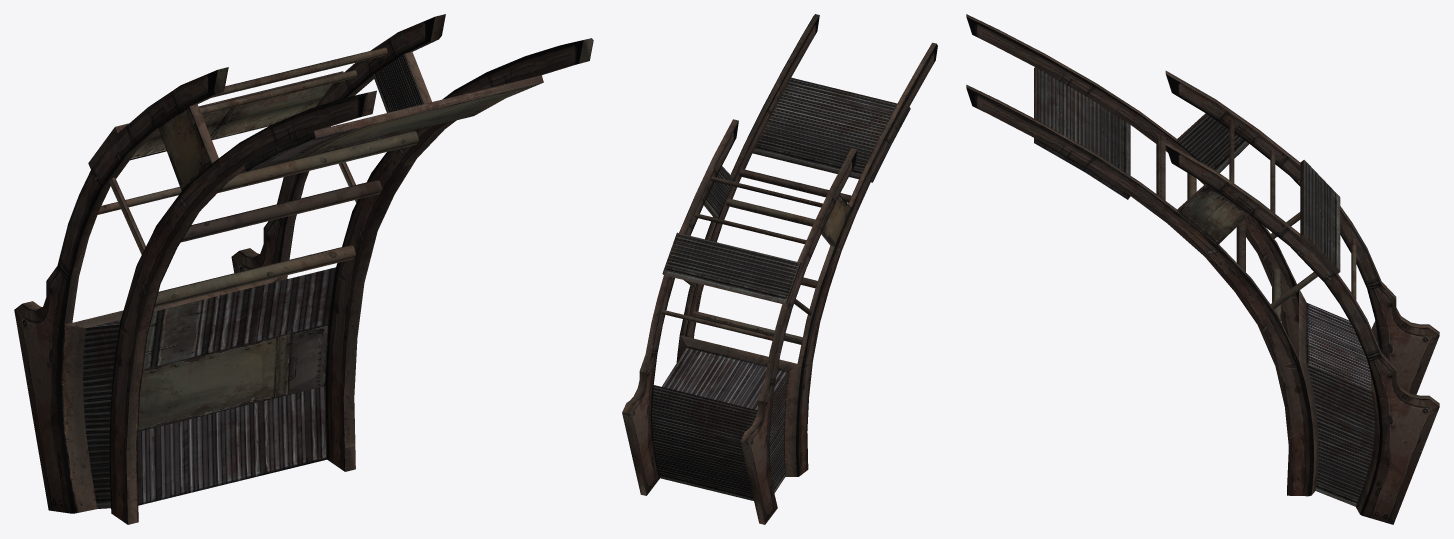
The model's file is ComShip.FBX.
3 views of the same model, side by side, from view 1: azimuth 30°, elevation 25°; view 2: azimuth 150°, elevation 25°; view 3: azimuth 270°, elevation 25° (orthographic). The views are drawn at different scales.
Parts seen in each view (by area): view 1: ComShipRib; view 2: ComShipRib; view 3: ComShipRib.
Part boxes in pixels (left/top/right/bottom): ComShipRib: left=14, top=14, right=593, bottom=524; ComShipRib: left=622, top=14, right=937, bottom=524; ComShipRib: left=966, top=14, right=1439, bottom=524.
Bounding box in the file's own units: 349 × 949 × 932.
